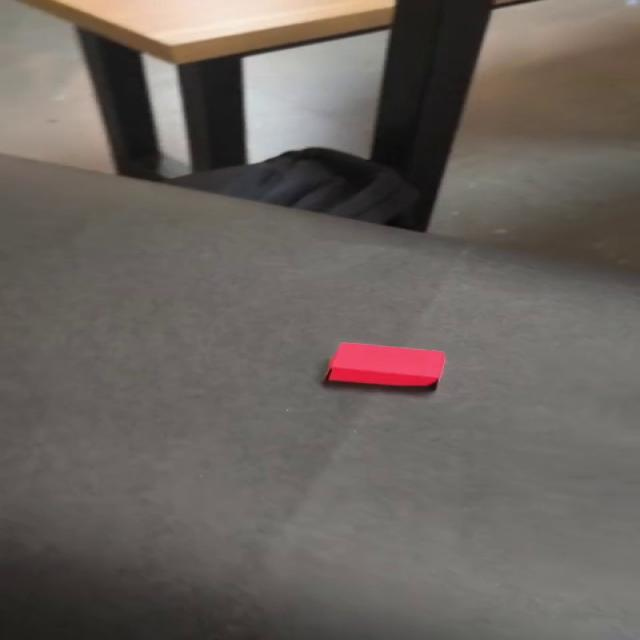red block: (323, 341, 445, 388)
